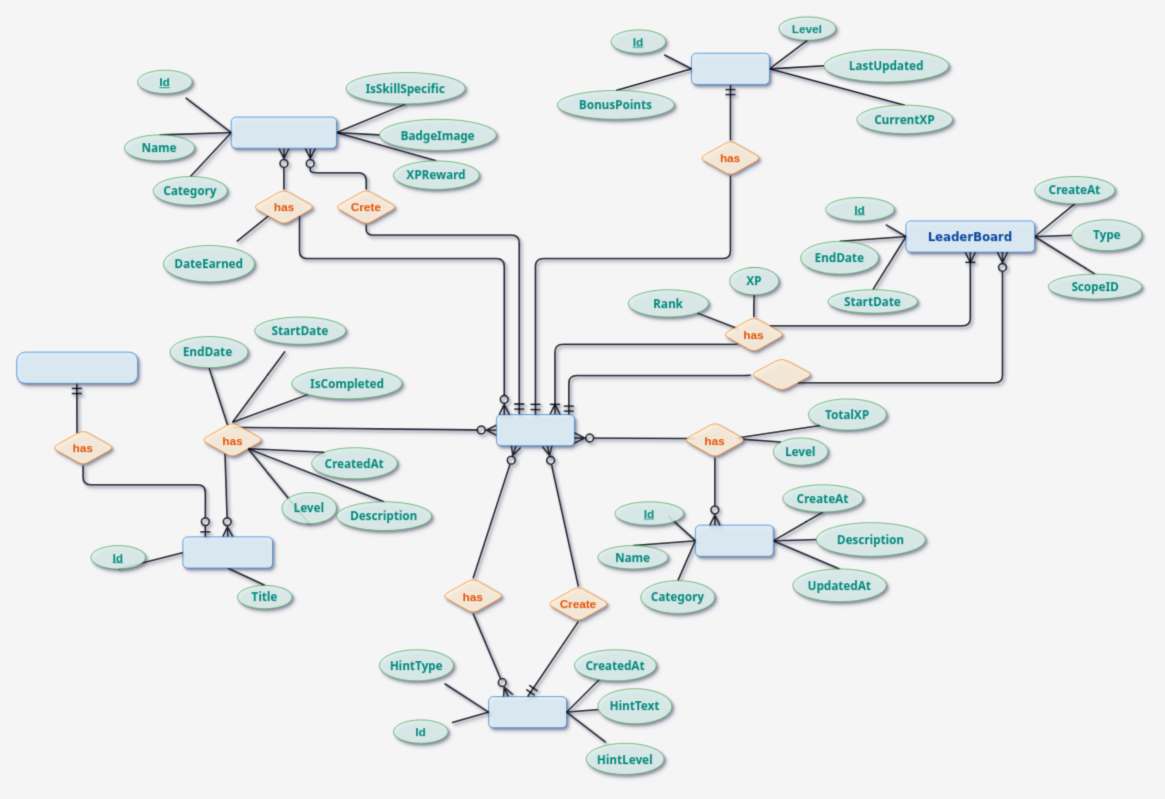
Some shapes in this 1165 by 799 pixel diagram are drawn without their labels. The centre of each missing label's shape, as x and y in pixels:
Achievements: the point at 284,133
Certification: the point at 228,553
Crate: the point at 782,375
Hints: the point at 528,713
LearnPath: the point at 77,368
Skills: the point at 734,541
User: the point at 536,431
UserXp: the point at 731,69
